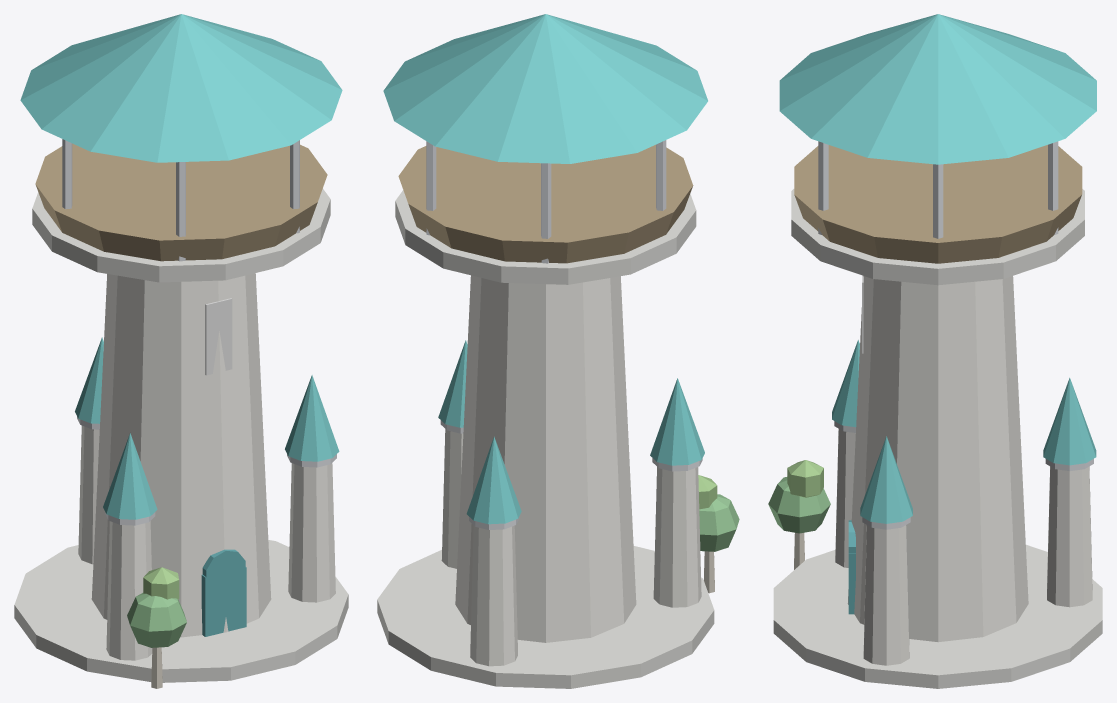
The picture shows the model from 3 angles, left to right: view 1: azimuth 30°, elevation 25°; view 2: azimuth 150°, elevation 25°; view 3: azimuth 270°, elevation 25°; orthographic projection.
Parts seen in each view (by area): view 1: body; view 2: body; view 3: body.
Part boxes in pixels (box(x1,y1,x2,y2)): body: box(14, 14, 348, 688); body: box(377, 14, 739, 688); body: box(768, 14, 1102, 688).
Size of the model in its own units: 11.2 by 22.1 by 11.1.
